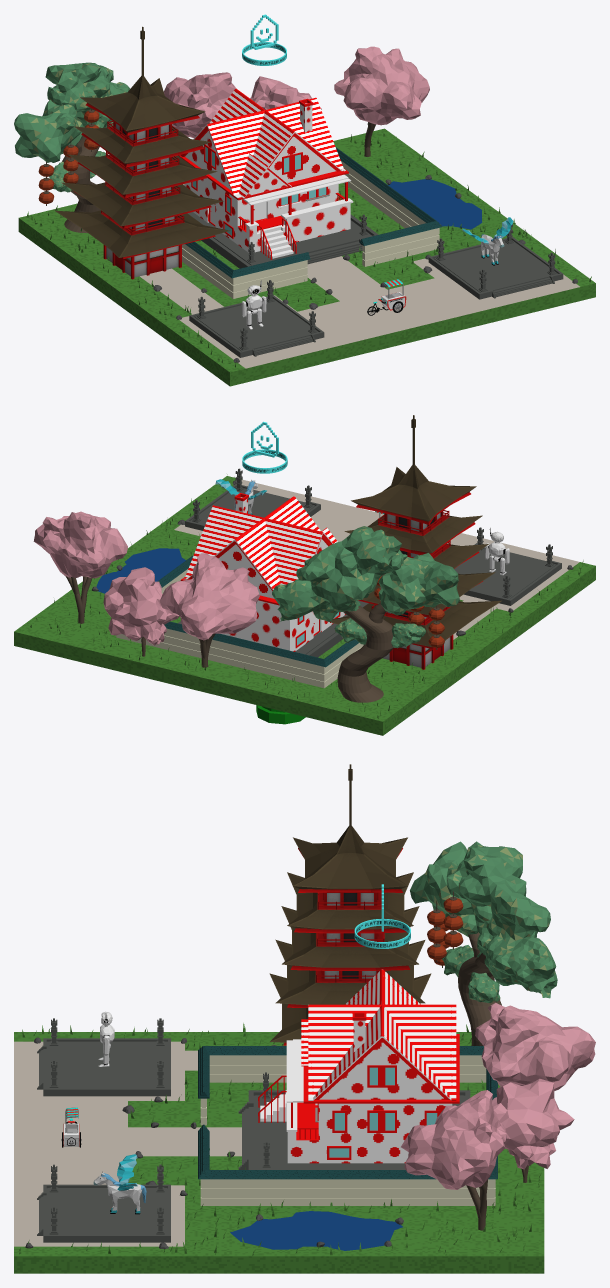
The picture shows the model from 3 angles, top to bottom: view 1: azimuth 30°, elevation 25°; view 2: azimuth 150°, elevation 25°; view 3: azimuth 270°, elevation 25°; orthographic projection. The views are drawn at different scales.
Parts seen in each view (by area): view 1: Cube.005, Cube.196, TYPE_PREMIUM, ANIMAL_PEGASO, OBJRANDOM_PLATZEEBOT, VEHICLES_SNOWBAL_BIKE; view 2: Cube.005, Cube.196, TYPE_PREMIUM, OBJRANDOM_PLATZEEBOT, UNDERGROUND_PIPES, ANIMAL_PEGASO; view 3: Cube.005, Cube.196, ANIMAL_PEGASO, TYPE_PREMIUM.
Boxes of the visible parts, <box> form: Cube.005: <box>14,26,595,386</box>; Cube.196: <box>178,88,353,259</box>; TYPE_PREMIUM: <box>242,14,286,65</box>; ANIMAL_PEGASO: <box>462,217,513,265</box>; OBJRANDOM_PLATZEEBOT: <box>241,280,266,329</box>; VEHICLES_SNOWBAL_BIKE: <box>367,279,406,315</box>; Cube.005: <box>14,415,595,735</box>; Cube.196: <box>180,493,345,651</box>; TYPE_PREMIUM: <box>242,421,287,473</box>; OBJRANDOM_PLATZEEBOT: <box>484,527,509,575</box>; UNDERGROUND_PIPES: <box>256,705,305,724</box>; ANIMAL_PEGASO: <box>215,479,266,514</box>; Cube.005: <box>14,764,595,1273</box>; Cube.196: <box>258,969,459,1163</box>; ANIMAL_PEGASO: <box>93,1154,146,1214</box>; TYPE_PREMIUM: <box>354,884,410,948</box>.
Bounding box in the file's own units: 4528 × 3273 × 4389.
Materials: 39 (7 with a texture image).
